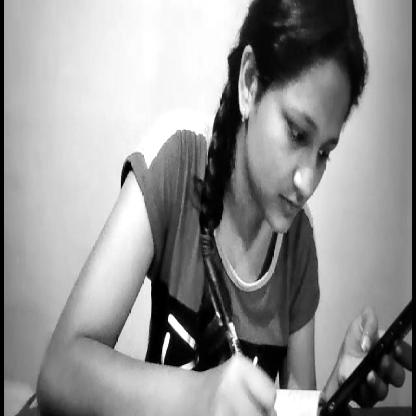Distracted: (227, 0, 361, 240)
